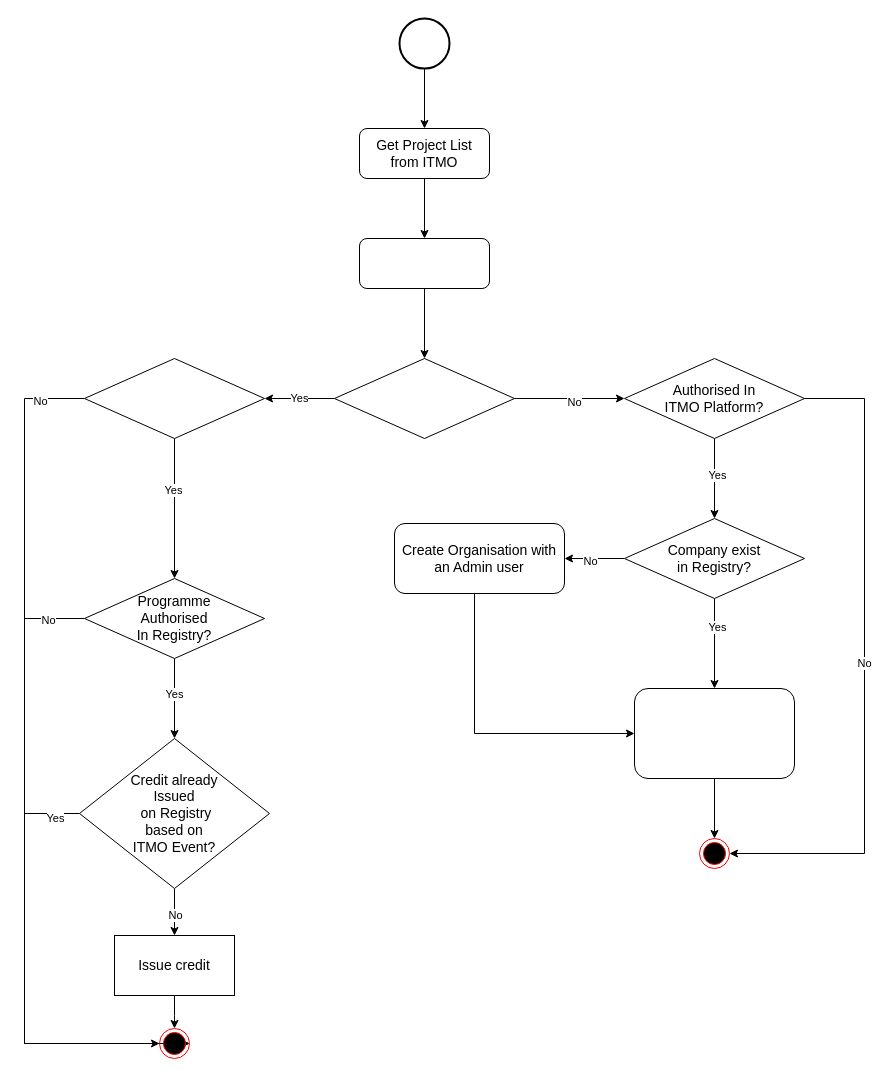
Some shapes in this 890 by 1076 pixel diagram are drawn without their labels. Here are the shapes that lost their labels. From the top down, the box of each, then its label:
(358, 238, 490, 288): Get Project Details from ITMO
(84, 358, 264, 438): Credit Issued on ITMO Platform?
(334, 358, 514, 438): project id exists on Registry?
(634, 688, 794, 778): Create Unauthorised programme on Registry
